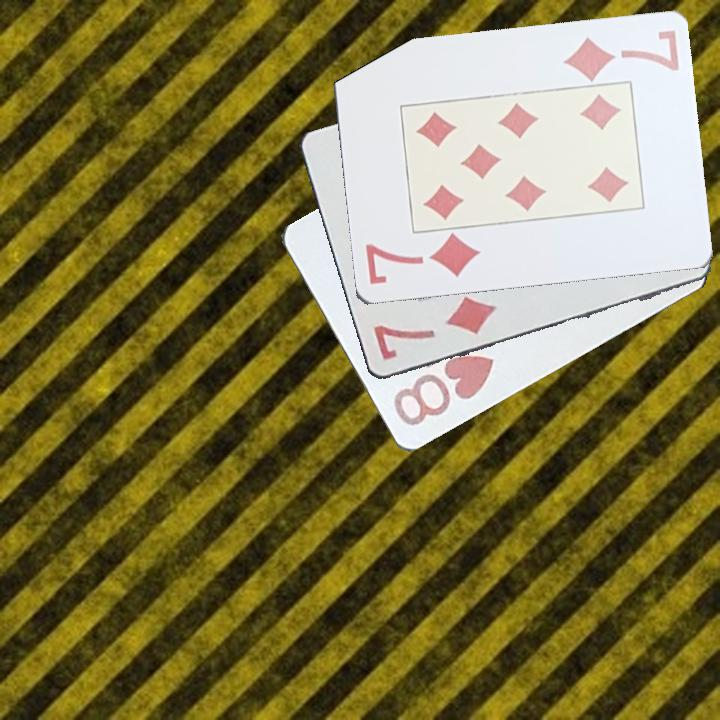7d: (369, 293, 500, 364), (361, 231, 483, 288), (558, 27, 682, 83)
8h: (389, 352, 497, 430)
